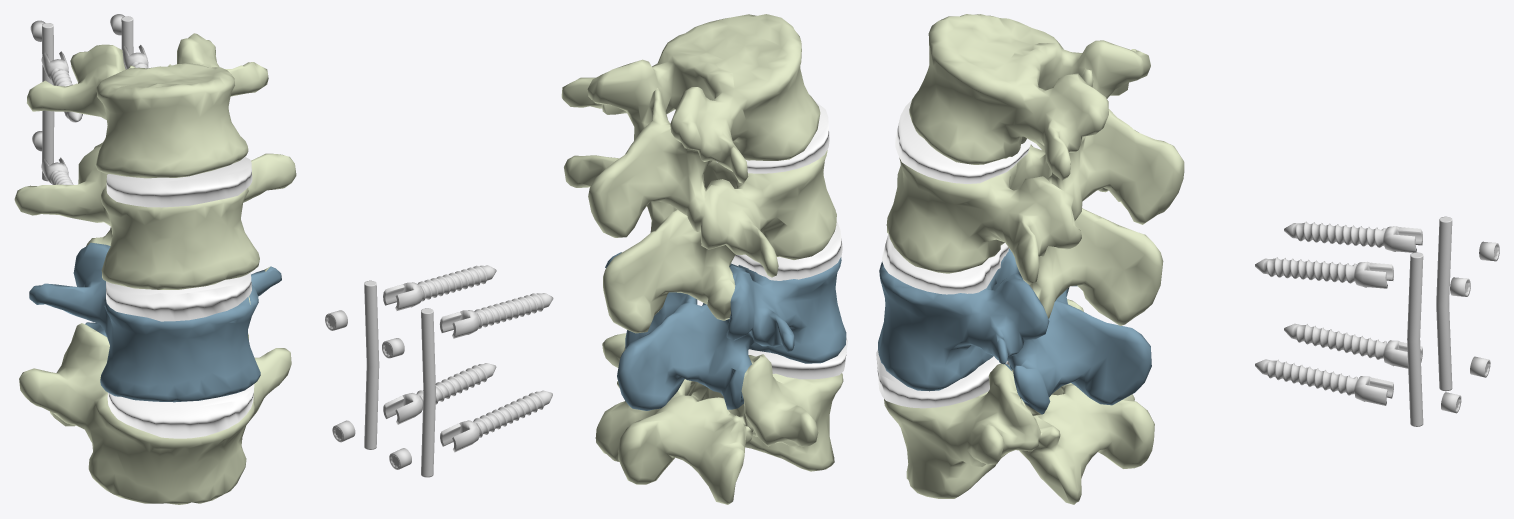
File: asset.glb
3 renders of one model, left to right at view 1: azimuth 30°, elevation 25°; view 2: azimuth 150°, elevation 25°; view 3: azimuth 270°, elevation 25°, orthographic. The views are drawn at different scales.
Parts seen in each view (by area): view 1: uploads_files_257727_lumbar+vertebrae+finished, Cylinder, Cylinder.002, Cylinder.001, Cylinder.003, Circle.001, Circle, Cylinder.006, Circle.003; view 2: uploads_files_257727_lumbar+vertebrae+finished, Circle, Circle.003, Circle.001, Cylinder.006, Cylinder.003, Circle.002, Cylinder.001, Cylinder.002, Cylinder; view 3: uploads_files_257727_lumbar+vertebrae+finished, Cylinder.002, Cylinder.001, Cylinder, Circle.002, Circle.003, Circle.001, Circle, Cylinder.006, Cylinder.003.
Part boxes in pixels (left/top/right/bottom): uploads_files_257727_lumbar+vertebrae+finished: left=14, top=33, right=296, bottom=504; Cylinder: left=107, top=384, right=254, bottom=438; Cylinder.002: left=106, top=157, right=252, bottom=207; Cylinder.001: left=106, top=272, right=251, bottom=321; Cylinder.003: left=42, top=23, right=54, bottom=181; Circle.001: left=41, top=51, right=82, bottom=122; Circle: left=41, top=157, right=73, bottom=184; Cylinder.006: left=121, top=16, right=133, bottom=69; Circle.003: left=122, top=45, right=148, bottom=68; uploads_files_257727_lumbar+vertebrae+finished: left=561, top=14, right=846, bottom=504; Circle: left=440, top=390, right=552, bottom=452; Circle.003: left=383, top=265, right=496, bottom=310; Circle.001: left=439, top=293, right=553, bottom=338; Cylinder.006: left=364, top=280, right=379, bottom=449; Cylinder.003: left=421, top=308, right=435, bottom=477; Circle.002: left=383, top=363, right=496, bottom=424; Cylinder.001: left=731, top=221, right=842, bottom=280; Cylinder.002: left=716, top=100, right=829, bottom=173; Cylinder: left=748, top=337, right=847, bottom=379; uploads_files_257727_lumbar+vertebrae+finished: left=878, top=14, right=1184, bottom=504; Cylinder.002: left=895, top=100, right=1031, bottom=183; Cylinder.001: left=881, top=234, right=1008, bottom=294; Cylinder: left=876, top=349, right=1009, bottom=408; Circle.002: left=1255, top=359, right=1393, bottom=405; Circle.003: left=1255, top=257, right=1393, bottom=288; Circle.001: left=1284, top=221, right=1422, bottom=252; Circle: left=1284, top=323, right=1422, bottom=368; Cylinder.006: left=1407, top=252, right=1423, bottom=426; Cylinder.003: left=1436, top=216, right=1452, bottom=391.
Bounding box in the file's own units: 1.66 × 2.3 × 2.87.
